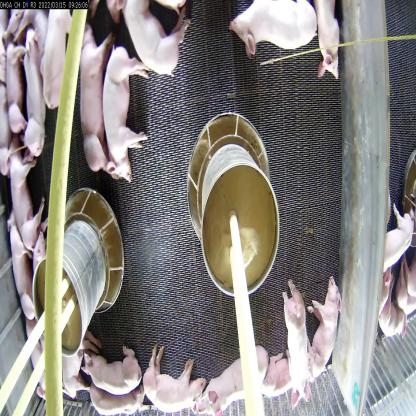Pig: (72, 18, 113, 176), (114, 0, 192, 82), (104, 44, 149, 186), (224, 0, 326, 58), (191, 342, 268, 416), (277, 271, 315, 413), (4, 136, 48, 252), (2, 207, 41, 333), (308, 273, 346, 395), (140, 347, 208, 413), (20, 24, 51, 163), (30, 225, 58, 356), (43, 7, 76, 118), (77, 346, 144, 397), (3, 5, 54, 71), (3, 35, 33, 143), (22, 316, 58, 402), (312, 0, 345, 86), (262, 353, 322, 399), (383, 200, 416, 283), (380, 256, 408, 351), (58, 343, 100, 403), (85, 379, 149, 416), (398, 246, 416, 332)
